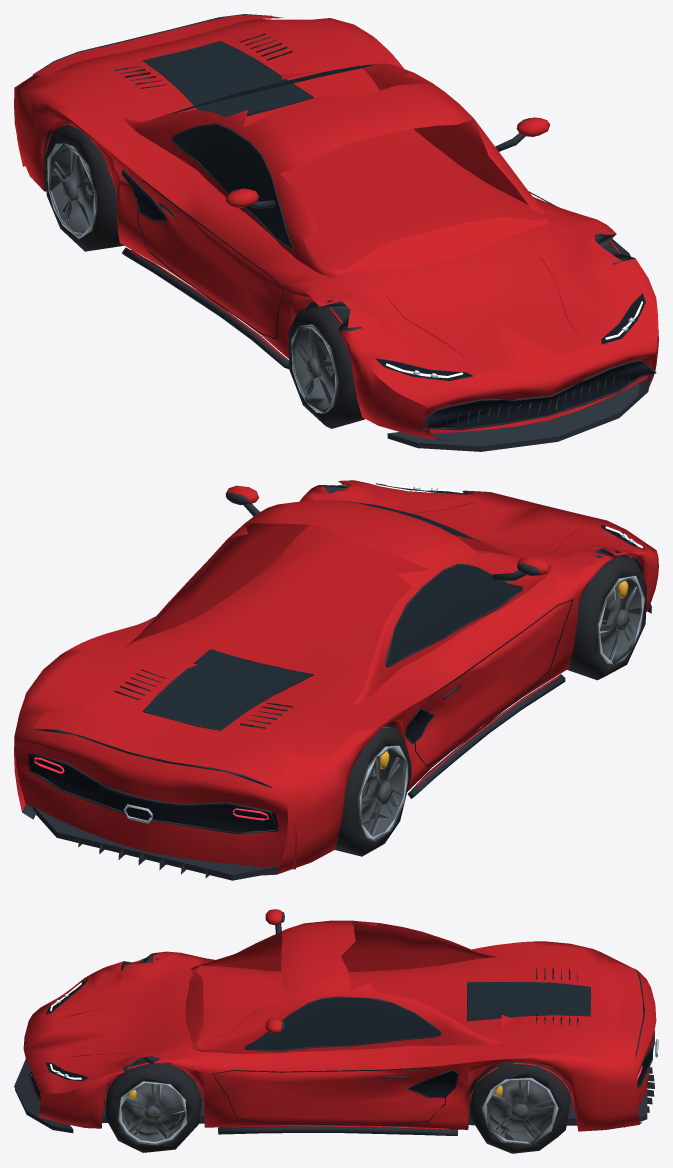
The model's file is Ferrari_LOD2.glb.
3 views of the same model, one above another, from view 1: azimuth 30°, elevation 25°; view 2: azimuth 150°, elevation 25°; view 3: azimuth 270°, elevation 25° (orthographic). The views are drawn at different scales.
Parts seen in each view (by area): view 1: Ferrari_Body, Wheel_Rear_L, Wheel_Front_L; view 2: Ferrari_Body, Wheel_Front_L, Wheel_Rear_L; view 3: Ferrari_Body, Wheel_Rear_R, Wheel_Front_R.
Part boxes in pixels (x1,y1,x2,y2): Ferrari_Body: (14,14,658,451); Wheel_Rear_L: (44,122,123,251); Wheel_Front_L: (288,306,364,428); Ferrari_Body: (14,480,658,880); Wheel_Front_L: (567,555,646,680); Wheel_Rear_L: (335,725,411,856); Ferrari_Body: (14,909,658,1135); Wheel_Rear_R: (469,1061,570,1153); Wheel_Front_R: (105,1059,201,1152).
Size of the model in its own units: 2.01 by 1.19 by 4.57.
